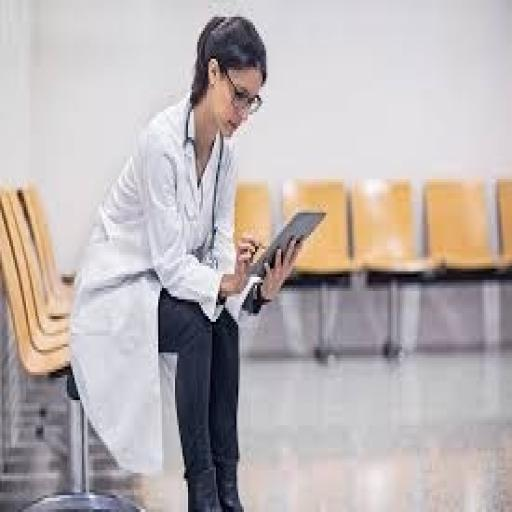sitting: (67, 11, 305, 509)
